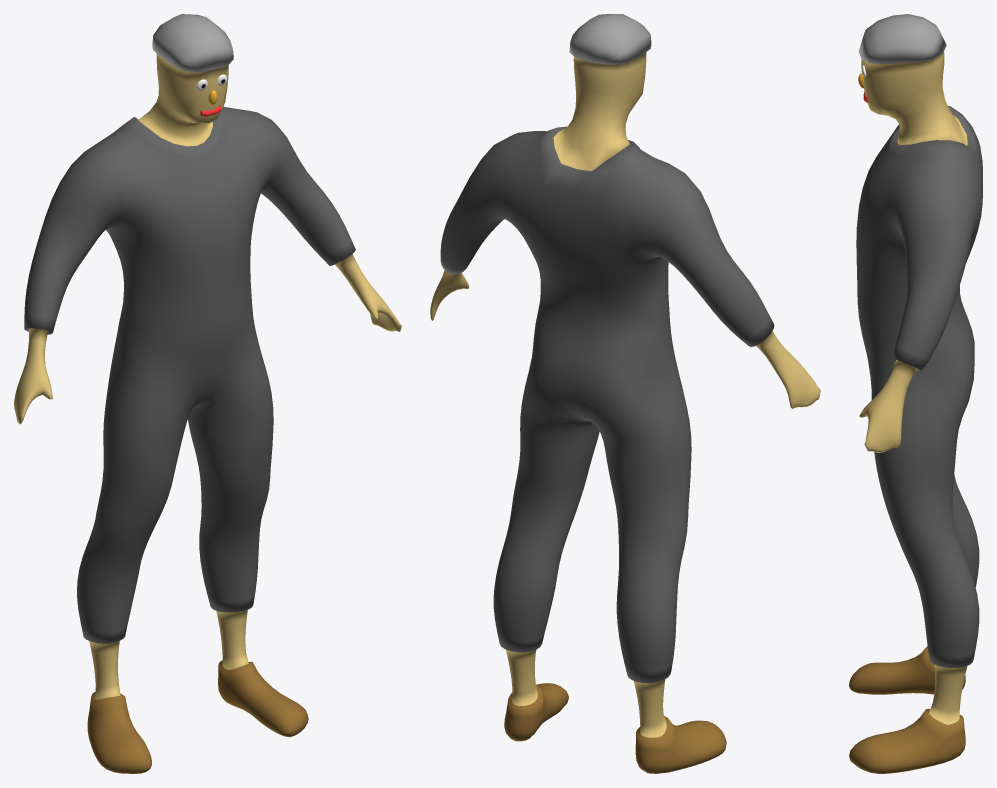
The model's file is Karakter8.fbx.
3 renders of one model, left to right at view 1: azimuth 30°, elevation 25°; view 2: azimuth 150°, elevation 25°; view 3: azimuth 270°, elevation 25°, orthographic.
Parts seen in each view (by area): view 1: Character; view 2: Character; view 3: Character.
Part boxes in pixels (left/top/right/bottom): Character: left=14, top=14, right=401, bottom=773; Character: left=430, top=14, right=820, bottom=773; Character: left=849, top=14, right=982, bottom=773.
Bounding box in the file's own units: 157 × 283 × 48.33.
1 material, 1 textured.
